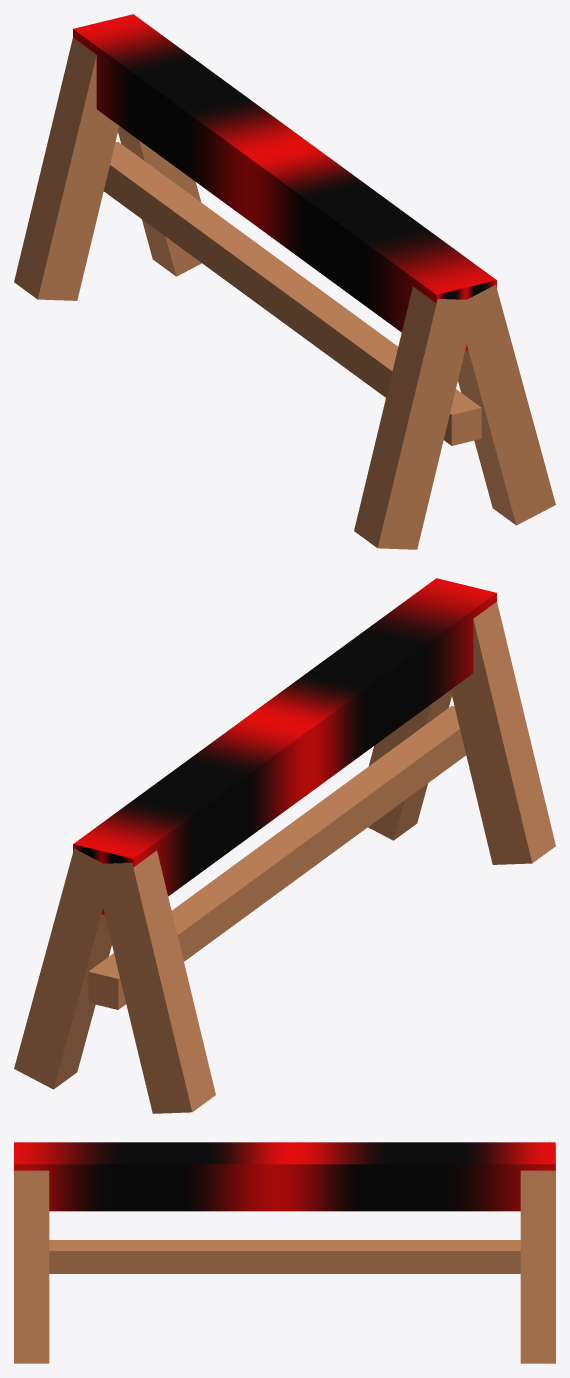
File: barrier.fbx
3 renders of one model, top to bottom at view 1: azimuth 30°, elevation 25°; view 2: azimuth 150°, elevation 25°; view 3: azimuth 270°, elevation 25°, orthographic. The views are drawn at different scales.
Parts seen in each view (by area): view 1: barrier; view 2: barrier; view 3: barrier.
Part boxes in pixels (<box>): barrier: <box>14,14,555,549</box>; barrier: <box>14,578,555,1113</box>; barrier: <box>14,1142,555,1363</box>.
Bounding box in the file's own units: 92.11 × 123 × 325.
Materials: 2 (1 with a texture image).
